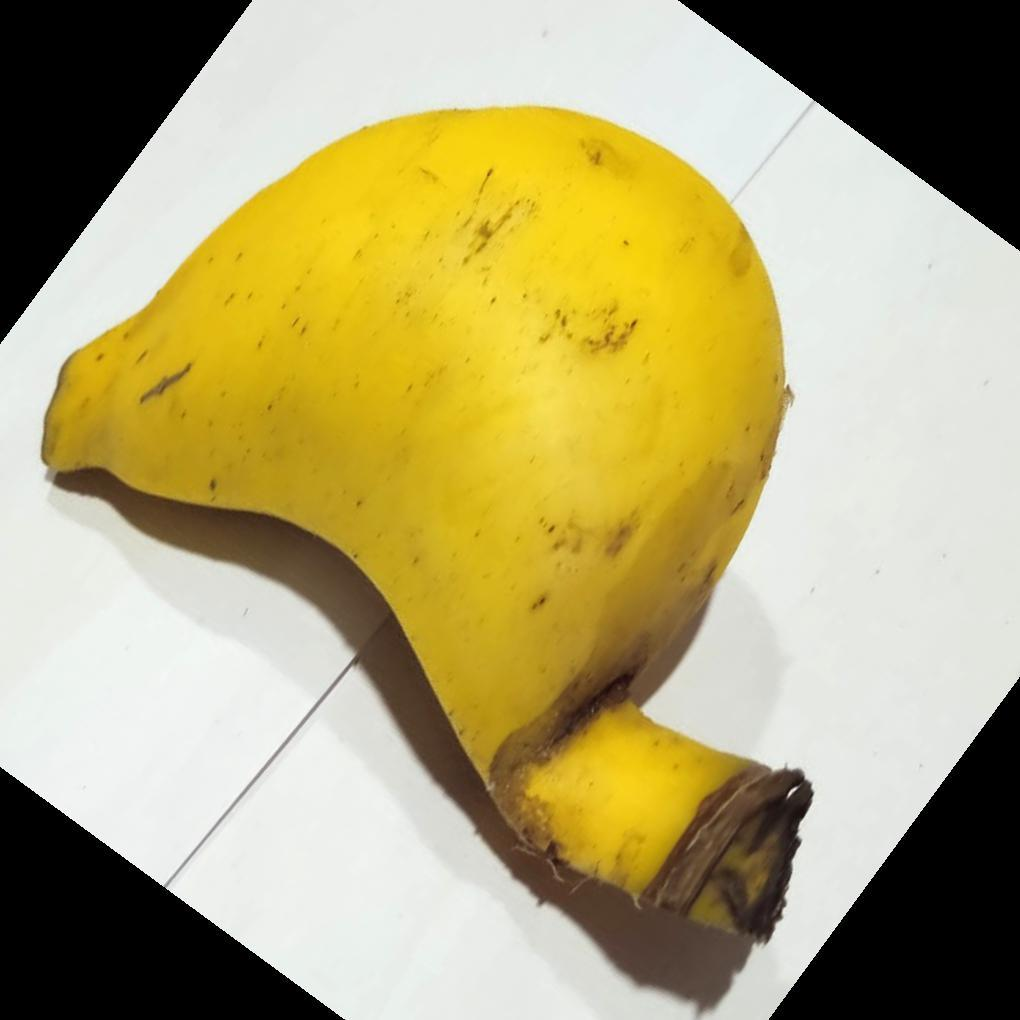Banana Ripe: (48, 99, 887, 953)
